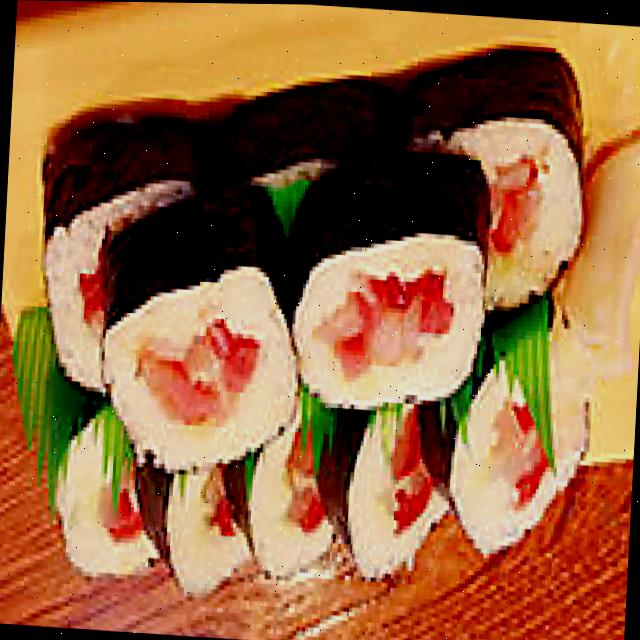寿司卷物: (0, 6, 612, 638)
